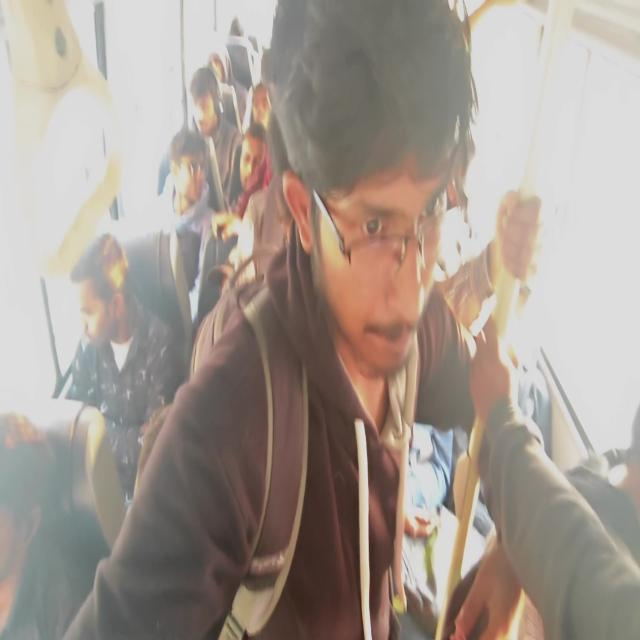person: (282, 15, 452, 360), (550, 419, 640, 640), (0, 395, 51, 569), (70, 221, 132, 355), (510, 288, 565, 398), (159, 134, 212, 212), (144, 409, 186, 500), (455, 146, 491, 236), (239, 134, 264, 208), (193, 71, 216, 128), (207, 53, 242, 83), (252, 84, 271, 120), (233, 11, 247, 42)
